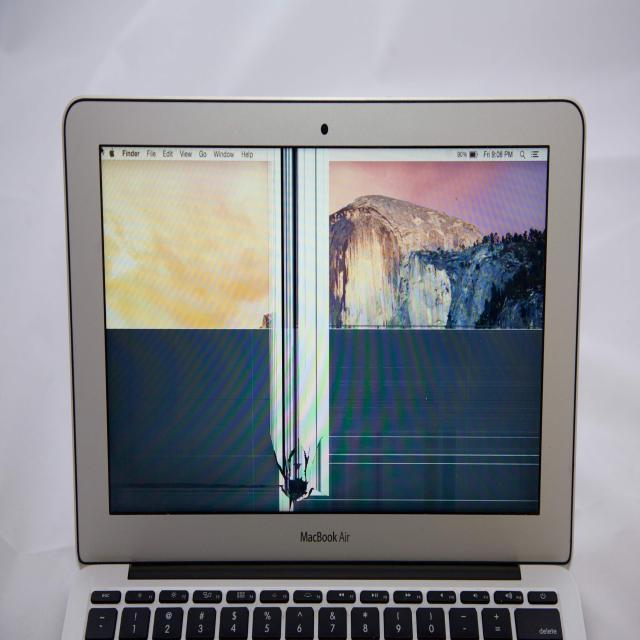Screen cracks: (250, 144, 338, 508)
